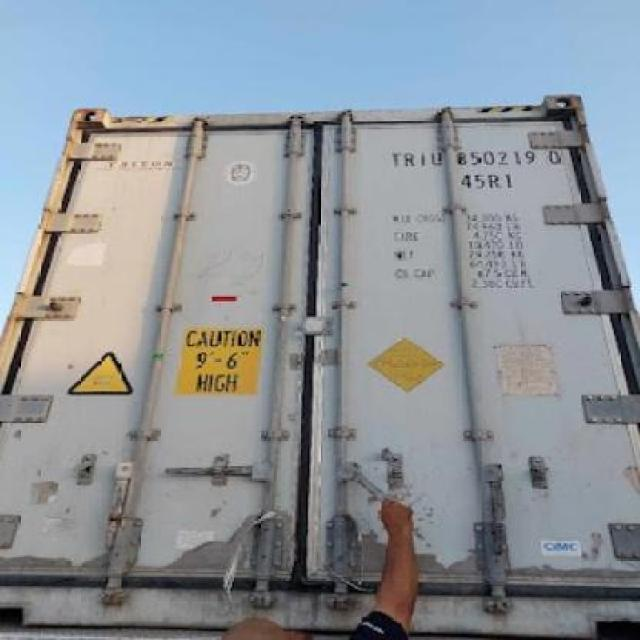ISO: (462, 172, 514, 190)
container_number: (396, 150, 564, 168)
